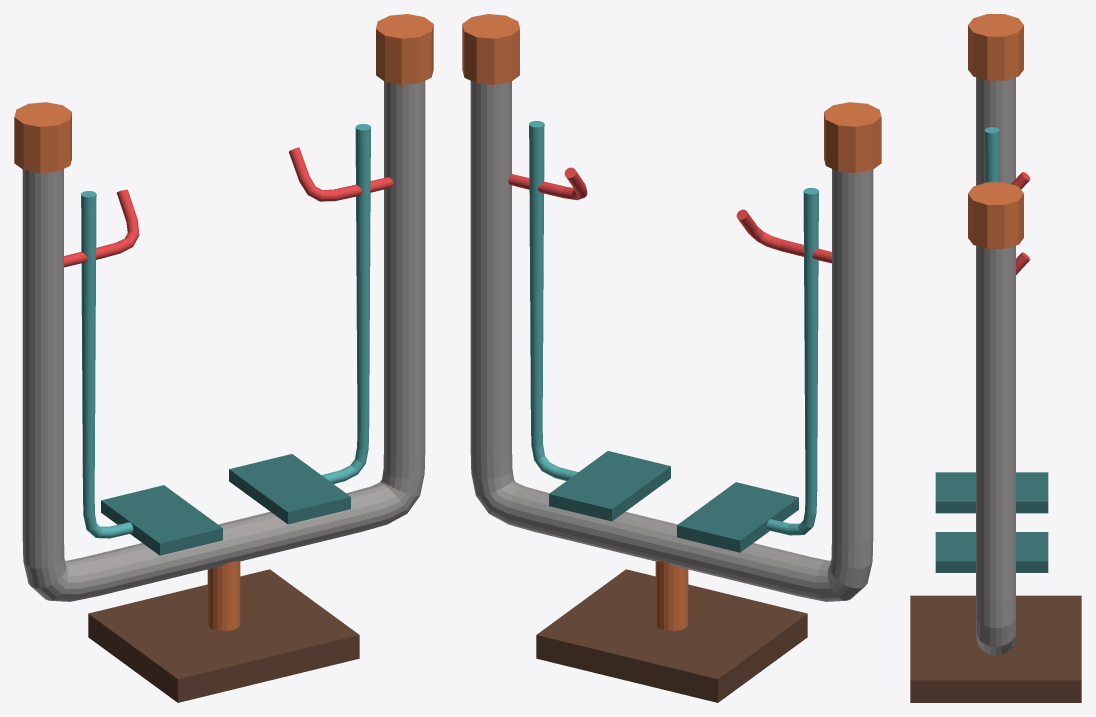
Rendered from D1_GYM4.fbx.
The picture shows the model from 3 angles, left to right: view 1: azimuth 30°, elevation 25°; view 2: azimuth 150°, elevation 25°; view 3: azimuth 270°, elevation 25°; orthographic projection. The views are drawn at different scales.
Visible parts, largest first — view 1: D1_GIMNASIO4; view 2: D1_GIMNASIO4; view 3: D1_GIMNASIO4.
Part boxes in pixels (<box>): D1_GIMNASIO4: <box>14,14,433,702</box>; D1_GIMNASIO4: <box>462,14,881,702</box>; D1_GIMNASIO4: <box>910,14,1081,702</box>.
Bounding box in the file's own units: 150 × 202 × 56.97.
